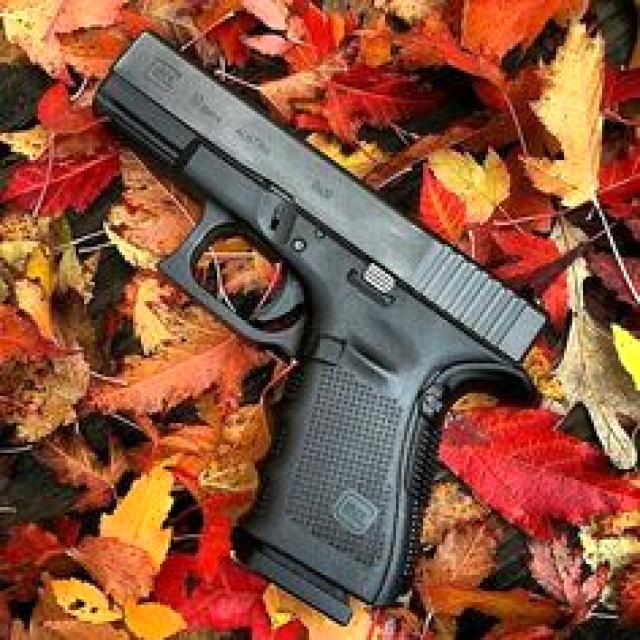semi automatic: (83, 10, 559, 624)
